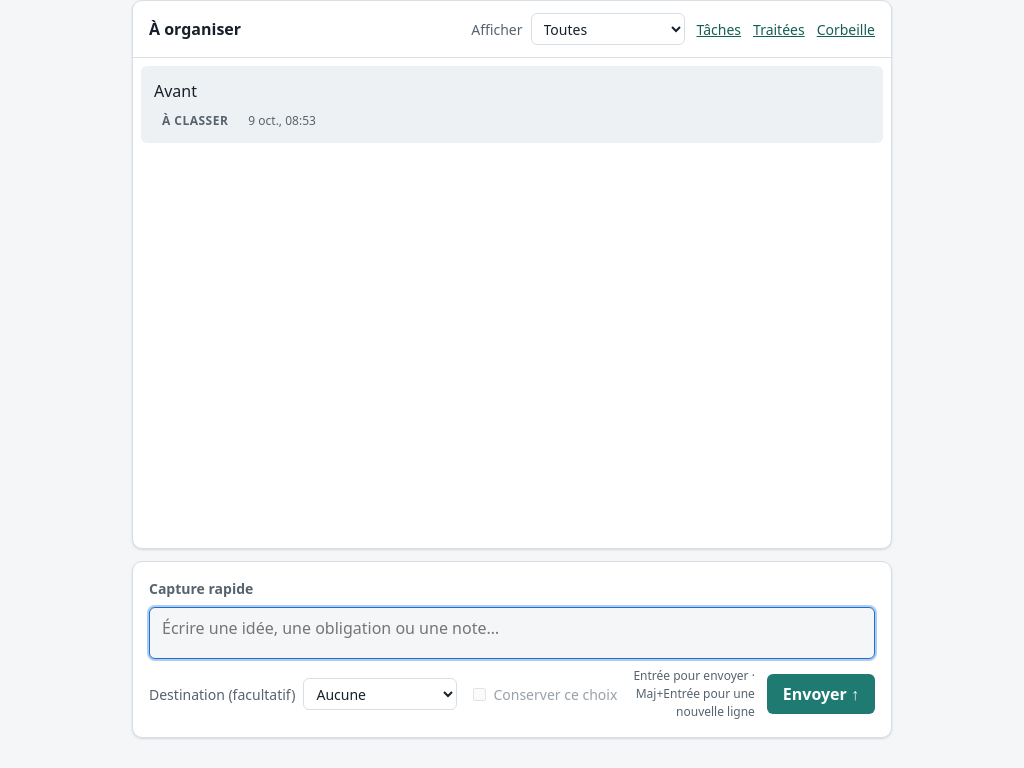
Scenario: E. enregistrer puis mettre à la corbeille › les deux opérations ont réellement lieu, dans l'ordre
Click the button "Avant À classer 9 oct., 08:53" at (176, 91), box 142,67 -> 882,142
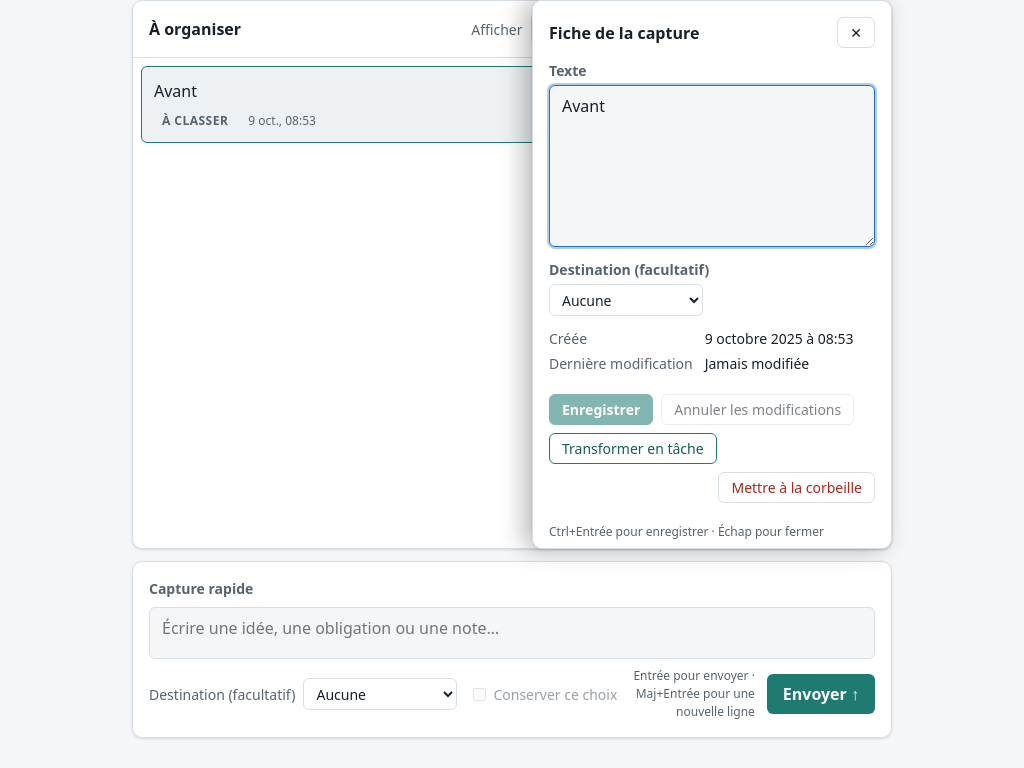
Replace the text in the text box labelled "Texte" with "Modifié avant corbeille" at (712, 166), box 549,85 -> 875,247
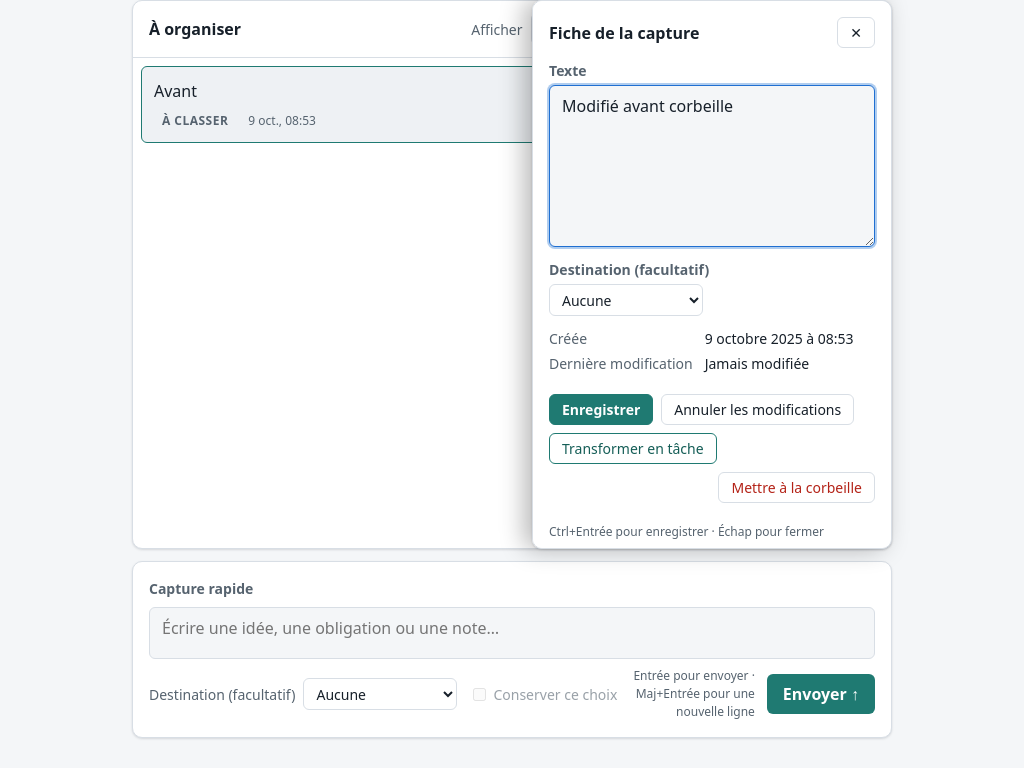
Click the button "Mettre à la corbeille" at (797, 488), box 718,472 -> 875,503
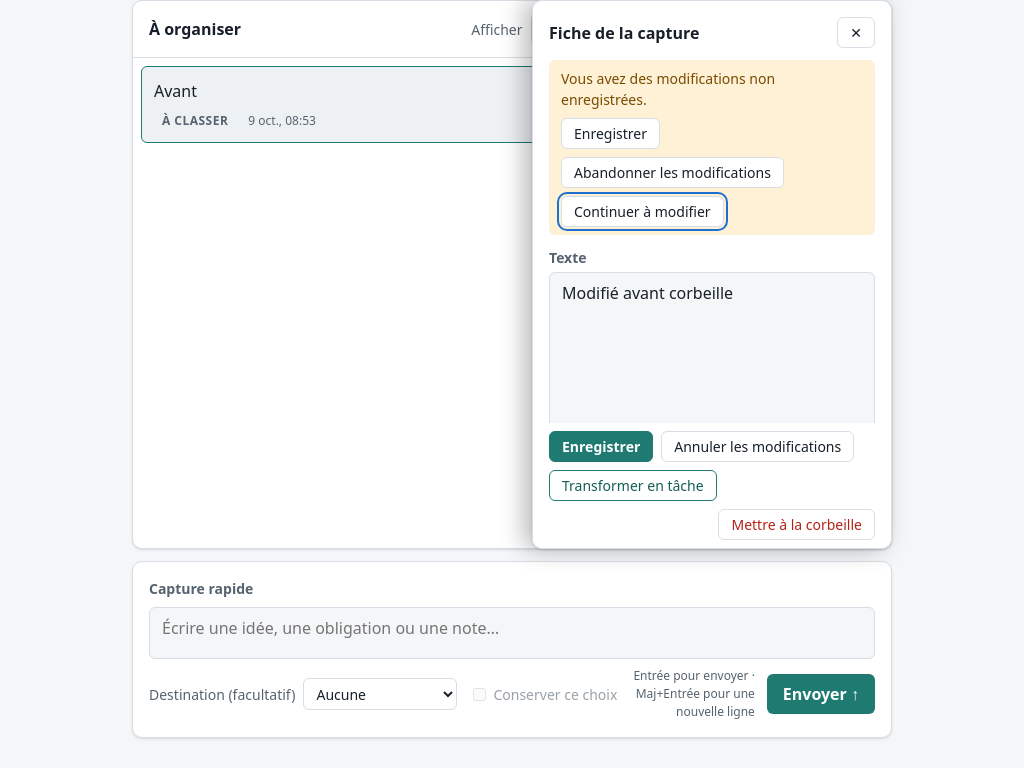
Click the 1st button "Enregistrer" at (610, 134), box 561,118 -> 660,149
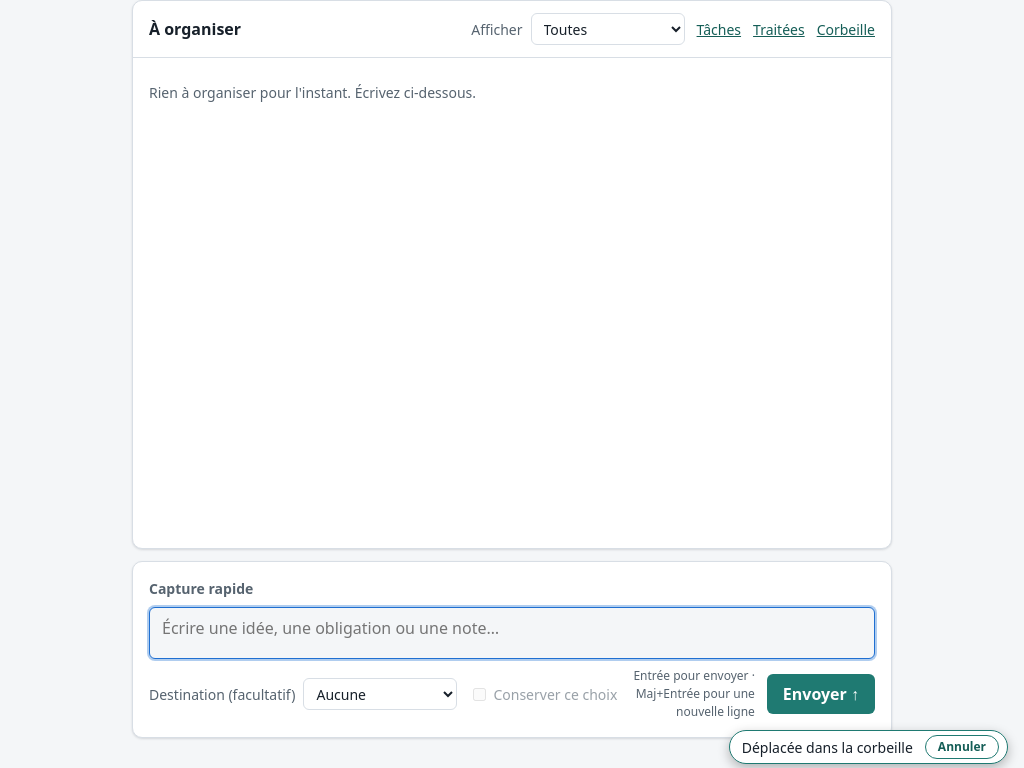
Expected: the text "Déplacée dans la corbeille" is shown, 742,737 -> 913,758
